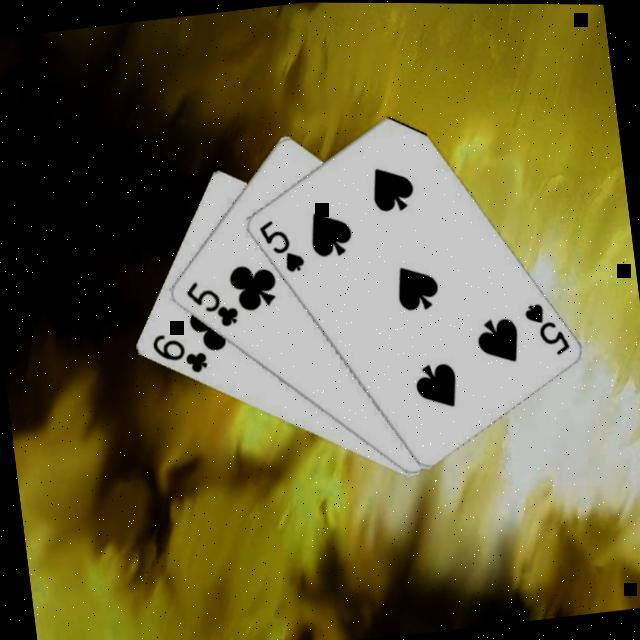5C: (182, 275, 244, 335)
5S: (256, 214, 310, 280), (521, 296, 574, 362)
6C: (150, 326, 212, 382)
